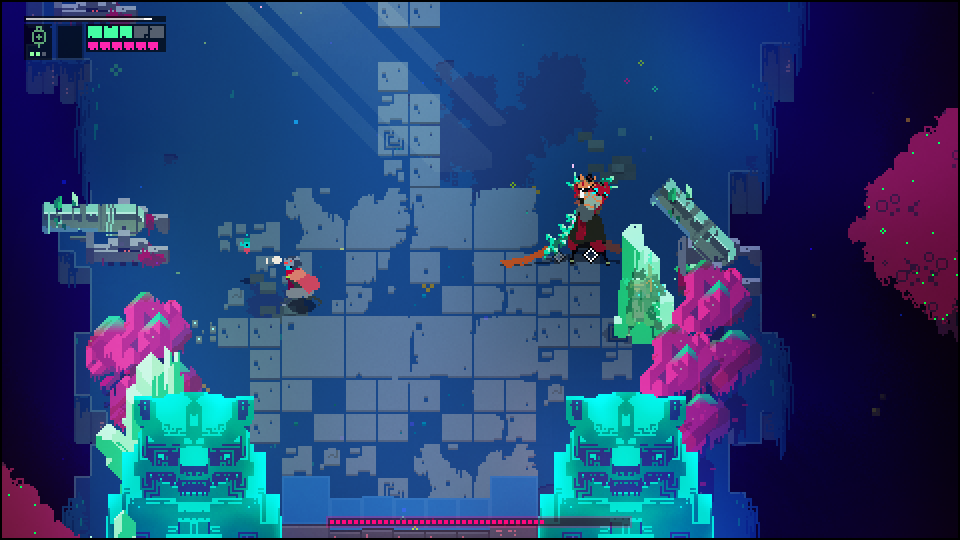hanged_man: (537, 165, 621, 274)
player: (279, 255, 324, 314)
